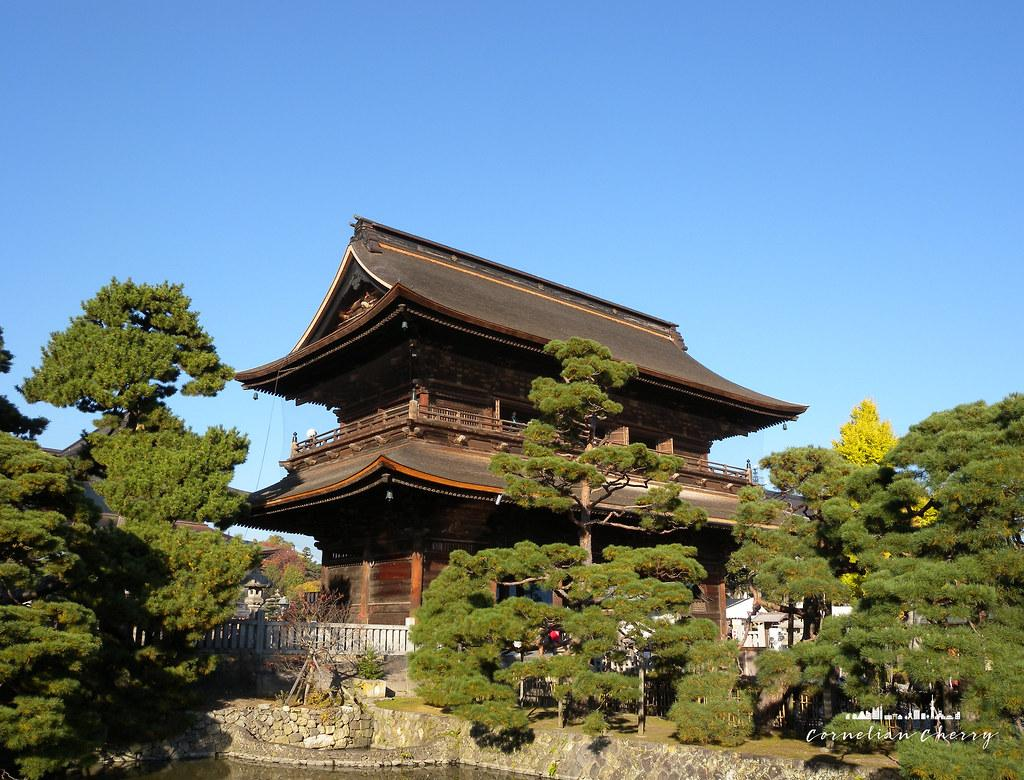temple: (226, 213, 824, 671)
